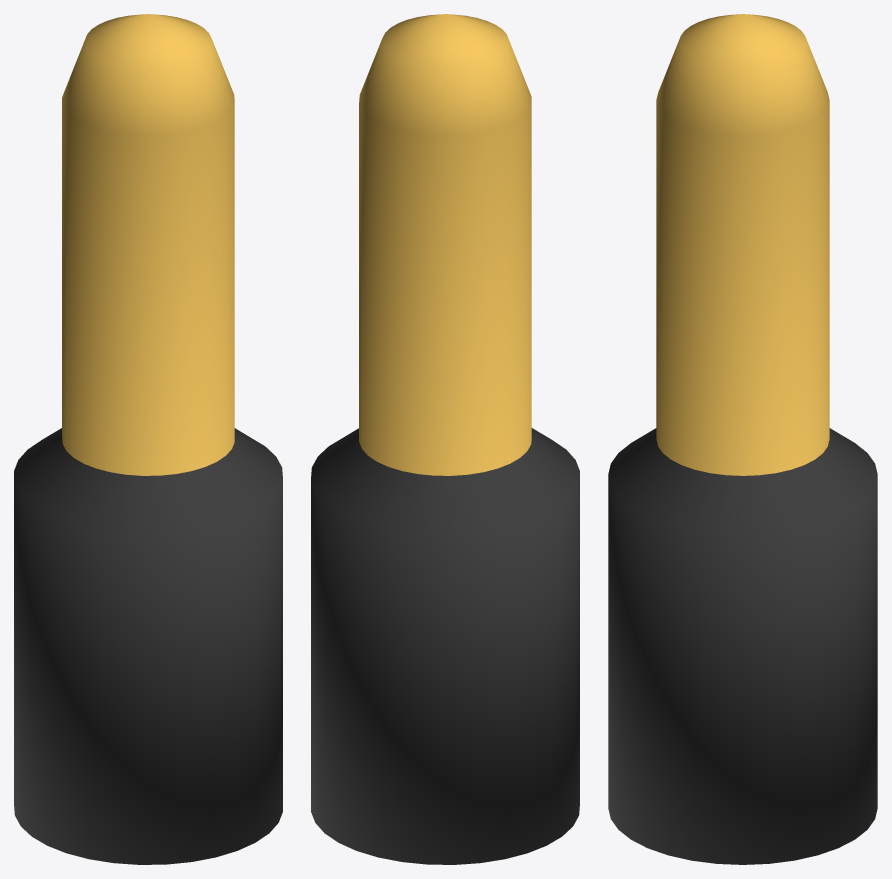
Rendered from Plug.fbx.
The picture shows the model from 3 angles, left to right: view 1: azimuth 30°, elevation 25°; view 2: azimuth 150°, elevation 25°; view 3: azimuth 270°, elevation 25°; orthographic projection.
Visible parts, largest first — view 1: Cylinder; view 2: Cylinder; view 3: Cylinder.
Part boxes in pixels (<box>): Cylinder: <box>14,14,282,864</box>; Cylinder: <box>311,14,579,864</box>; Cylinder: <box>608,14,877,864</box>.
Bounding box in the file's own units: 259 × 841 × 259.
